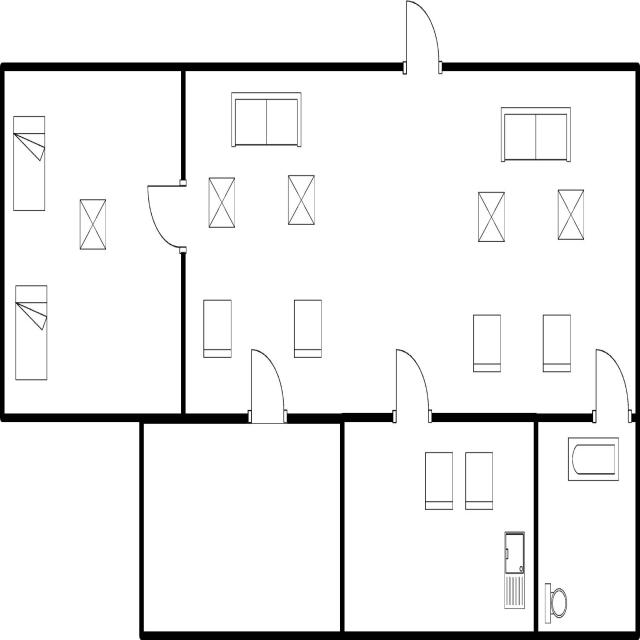bed: (10, 279, 51, 387), (9, 110, 48, 218)
coffee_table: (473, 185, 508, 250), (285, 166, 318, 232), (554, 185, 588, 247), (77, 192, 109, 255), (206, 172, 237, 236)
large_sink: (542, 577, 568, 628)
large_sofa: (497, 99, 575, 168), (229, 86, 304, 154)
sink: (502, 526, 528, 616)
small_sofa: (468, 306, 504, 378), (462, 448, 497, 518), (200, 294, 234, 365), (290, 294, 324, 363), (422, 448, 456, 516), (540, 310, 574, 377)
tub: (564, 431, 622, 489)
